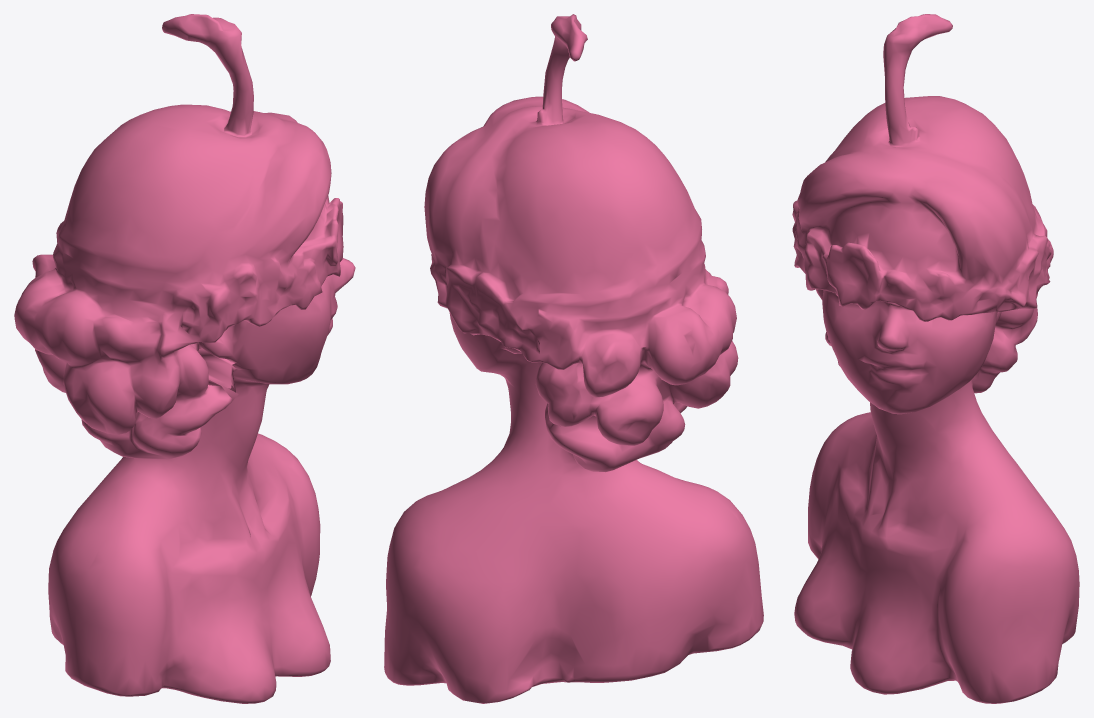
File: vela7.glb
3 views of the same model, side by side, from view 1: azimuth 30°, elevation 25°; view 2: azimuth 150°, elevation 25°; view 3: azimuth 270°, elevation 25° (orthographic). The views are drawn at different scales.
Visible parts, largest first — view 1: mujer; view 2: mujer; view 3: mujer.
Part boxes in pixels (x1=…): mujer: x1=14, y1=14, x2=355, y2=703; mujer: x1=384, y1=14, x2=763, y2=703; mujer: x1=792, y1=14, x2=1079, y2=703.
Bounding box in the file's own units: 3.56 × 7.33 × 3.03.
